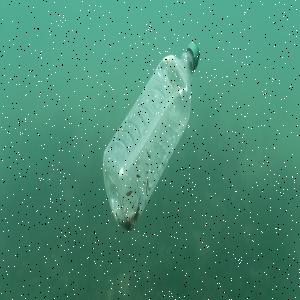Plastic-bottle: (103, 41, 201, 233)
